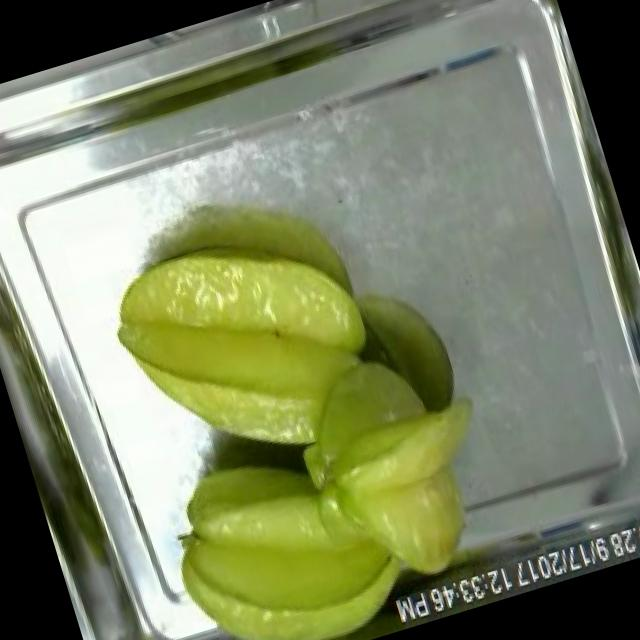fruit: (87, 191, 413, 504), (260, 316, 528, 614), (134, 408, 434, 640)
